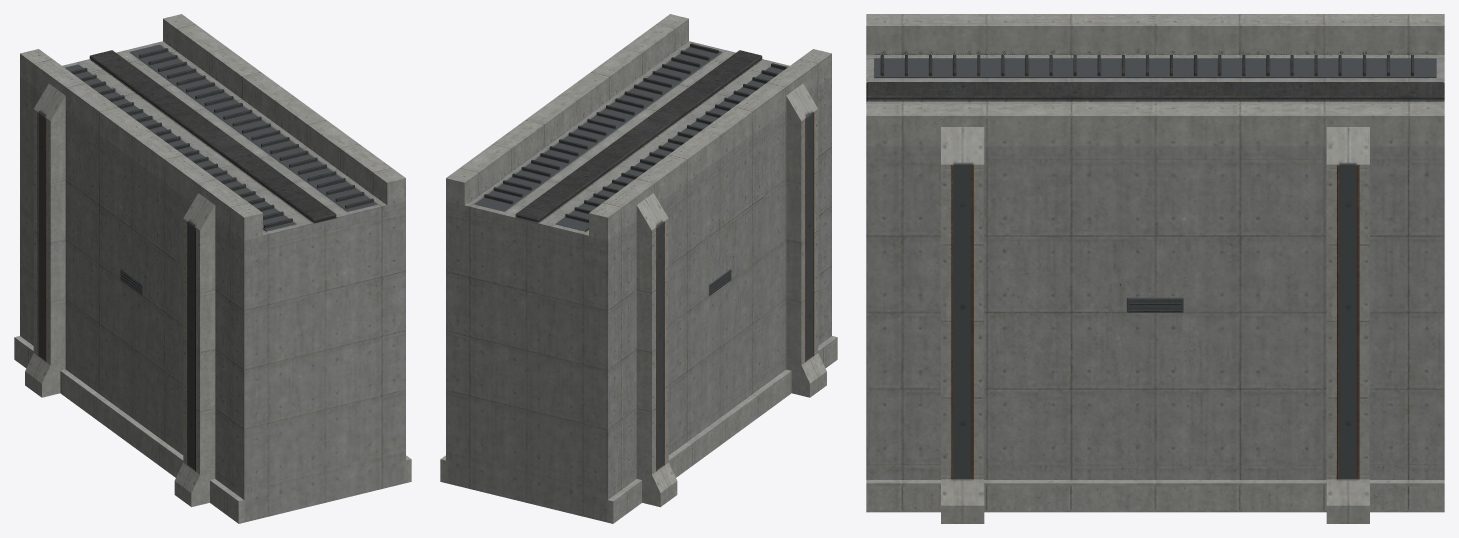
File: straight.glb
3 renders of one model, left to right at view 1: azimuth 30°, elevation 25°; view 2: azimuth 150°, elevation 25°; view 3: azimuth 270°, elevation 25°, orthographic. The views are drawn at different scales.
Visible parts, largest first — view 1: straight-geometry0, straight-geometry1.001; view 2: straight-geometry0, straight-geometry1.001; view 3: straight-geometry0, straight-geometry1.001.
Boxes of the visible parts, x1,y1,x2,y2 form: straight-geometry0: [15, 15, 409, 521]; straight-geometry1.001: [14, 14, 411, 523]; straight-geometry0: [442, 15, 836, 521]; straight-geometry1.001: [440, 14, 837, 523]; straight-geometry0: [866, 15, 1444, 521]; straight-geometry1.001: [866, 14, 1444, 523].
Size of the model in its own units: 38.8 by 54 by 72.
7 materials, 7 textured.
